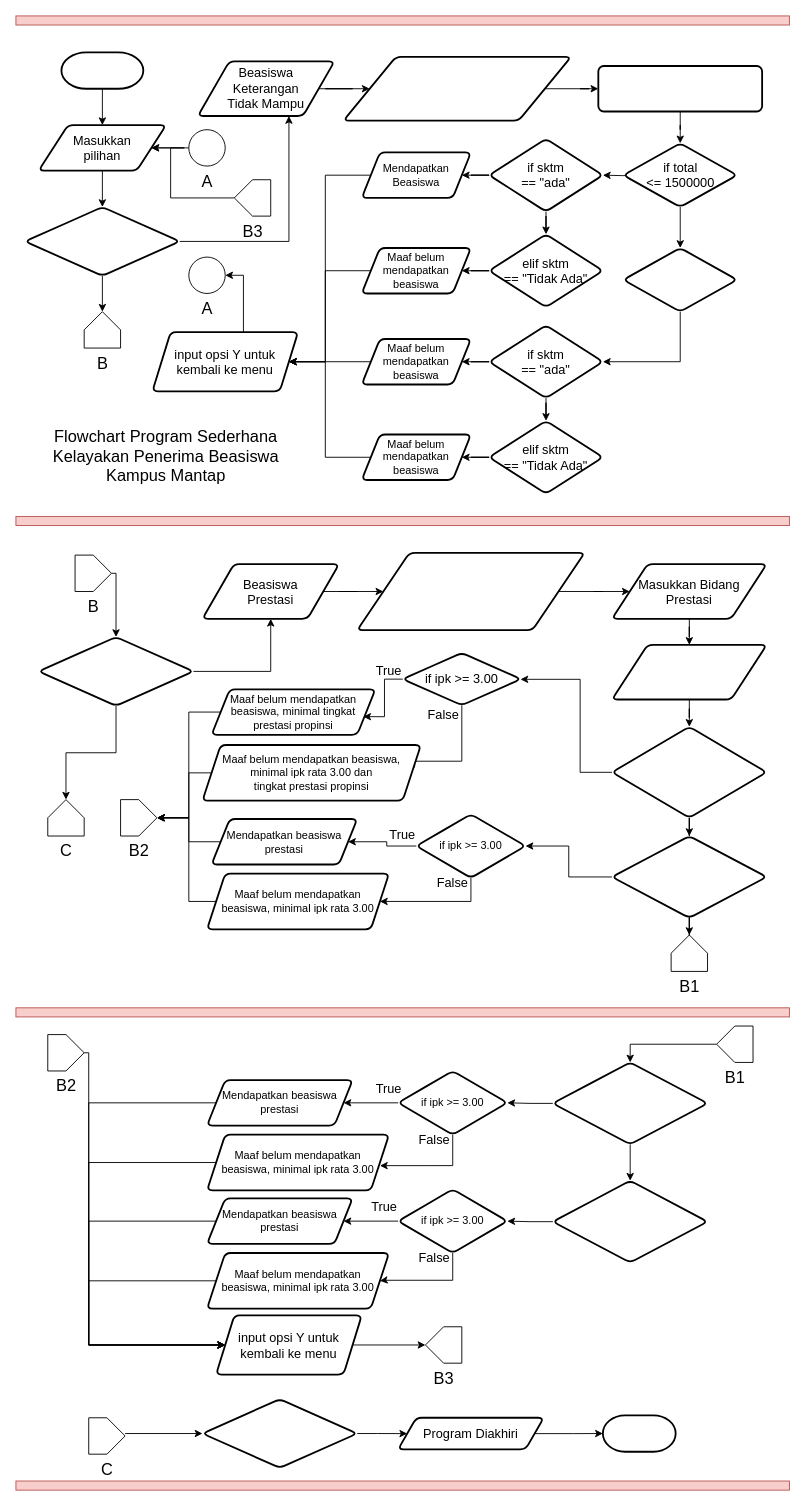
Image size: 805x1506. Some labels were removed from this diagram. The shapes that lost their labels are listed below. From the top down, each one's centre as x and y in pixels, then its label:
[102,70]: Mulai
[456,88]: Masukkan nim, nama, fakultas, prodi, gaji_ortu, anggota_keluarga, sktm
[680,88]: total = penghasilan_ortu / anggota_keluarga
[102,241]: if pililhan == 1
[680,279]: elif total >= 1500000
[470,591]: Masukkan nim, nama, fakultas, prodi, ipk rata-rata
[115,671]: elif pililhan == 2
[689,672]: Masukkan Tingkat Prestasi
[689,771]: if tingkat_prestasi == "Kabupaten/Kota"
[689,876]: elif tingkat_prestasi == "Propinsi"
[629,1103]: elif tingkat_prestasi == "Nasional"
[629,1221]: elif tingkat_prestasi == "Internasional"
[279,1433]: elif pililhan == 3
[639,1433]: Selesai
